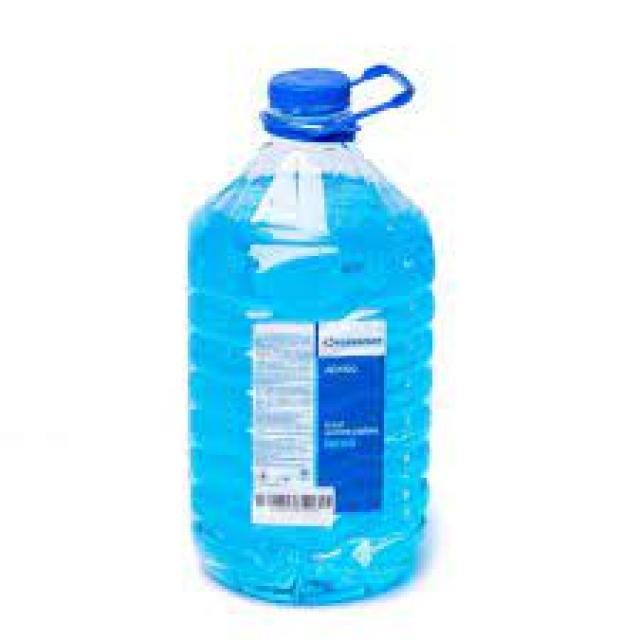winwinshield_washer: (183, 50, 444, 611)
